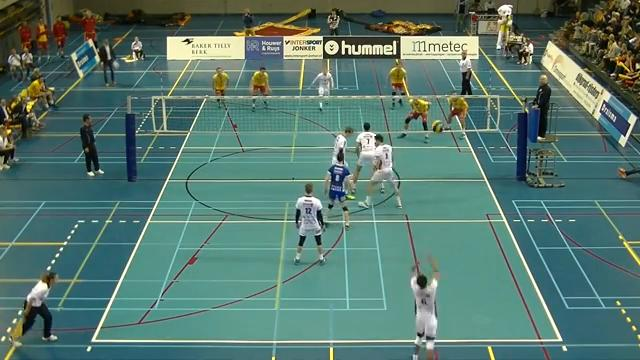Player: (358, 134, 401, 207), (410, 256, 439, 359), (294, 183, 325, 264), (324, 152, 350, 229), (352, 122, 375, 191), (399, 97, 429, 142), (445, 96, 468, 138), (311, 67, 333, 110), (388, 60, 406, 108), (331, 126, 353, 164), (250, 67, 269, 110), (212, 67, 228, 107)
ball: (433, 119, 443, 136)
